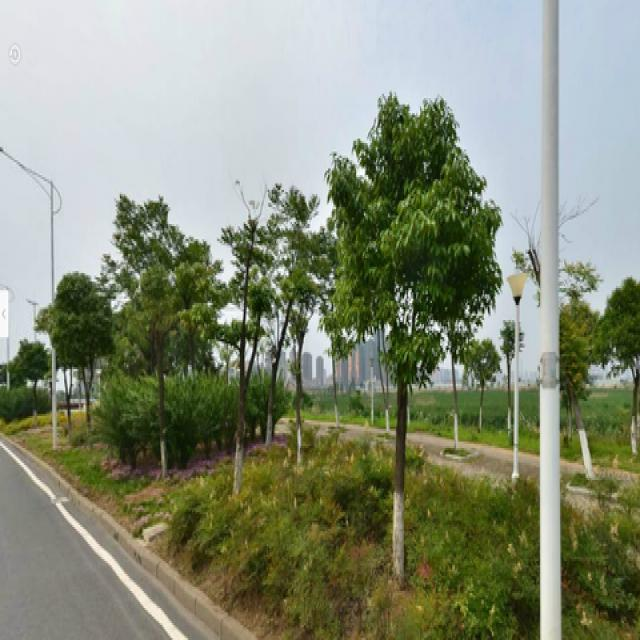cinn: (333, 96, 495, 572)
